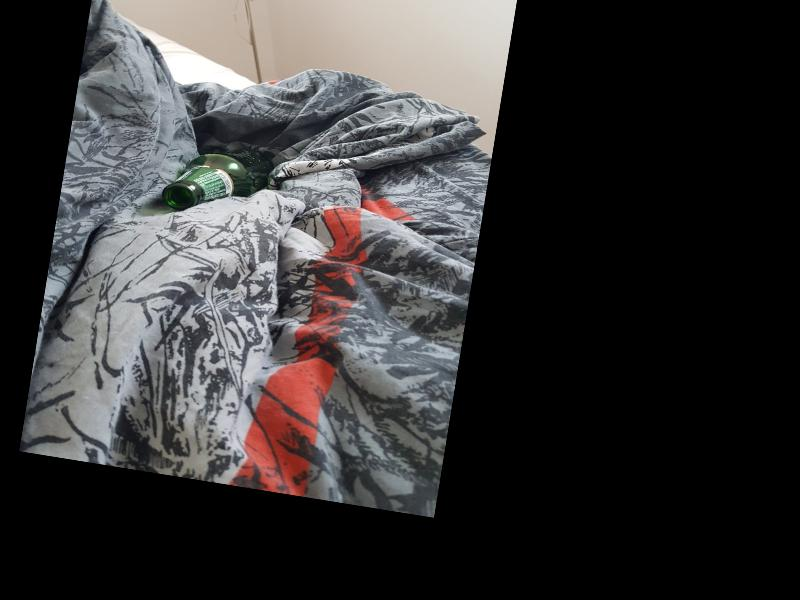Beer: (159, 137, 277, 224)
